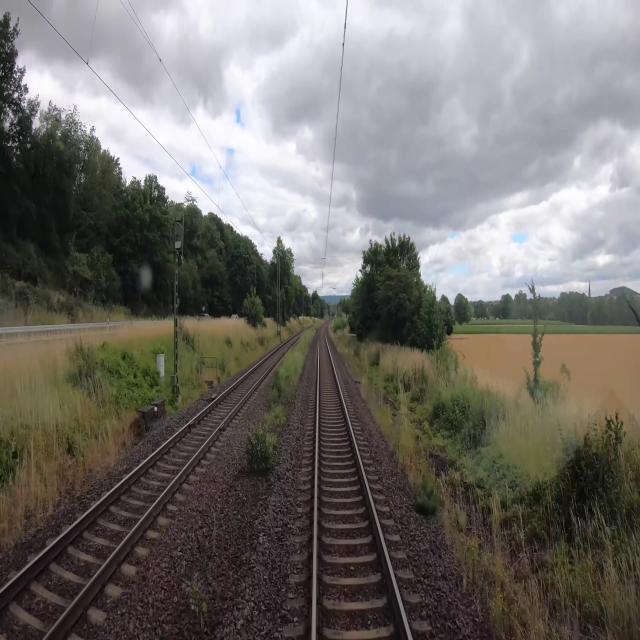Plant: (246, 324, 318, 469), (188, 576, 209, 625)
